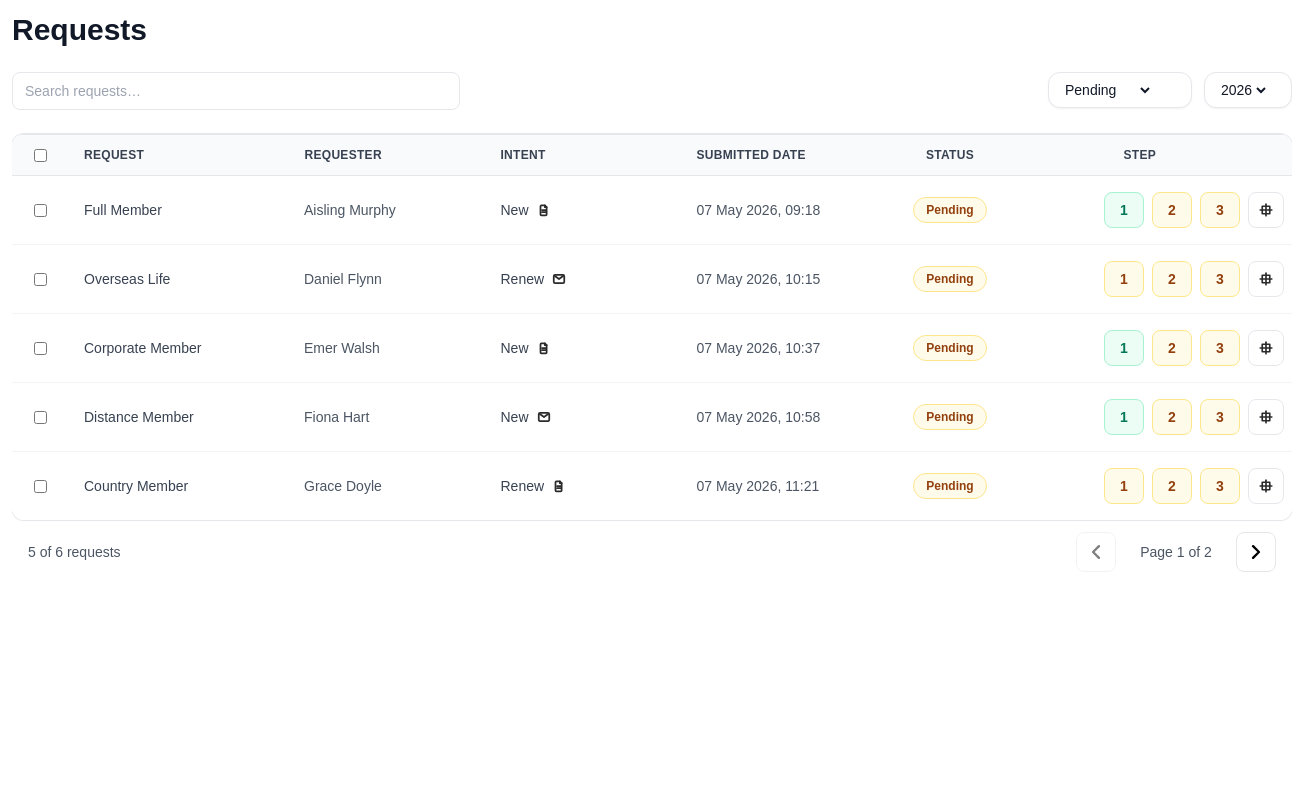
Test case: RequestsPage › filters › should change visible rows when moving between pagination pages and reset to page one on search
Expected: the text "Distance Member" is shown, [68,382,288,452]
Expected: the text "Pavilion Social" is not shown
Click the button named "Next page" at coordinates (1256, 552), box [1236,532,1276,572]
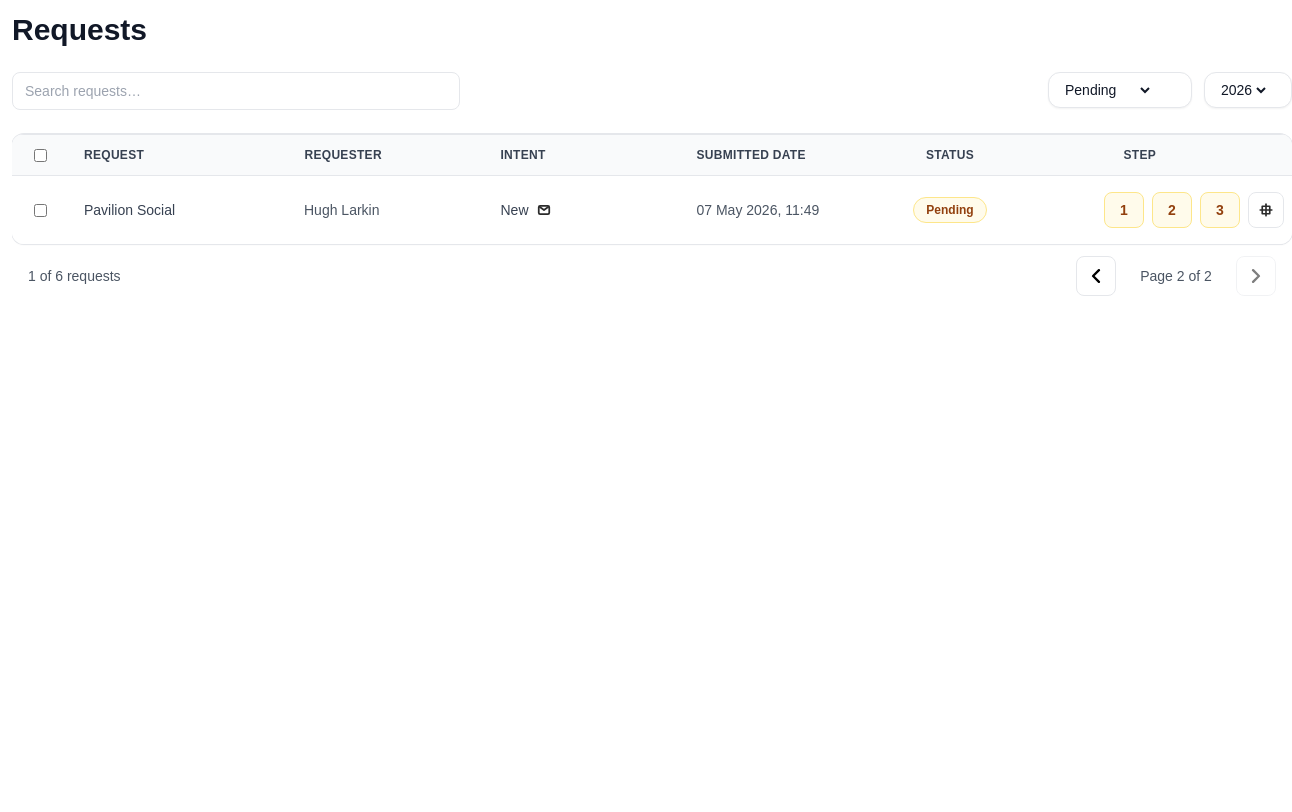
Expected: the text "Pavilion Social" is shown, [68,176,288,244]
Expected: the text "Distance Member" is gone
Expected: the text "1 of 6 requests" is shown, [28,266,121,286]
Type "REQ-1008" into the search field labelled "Search requests…" at coordinates (236, 91), box [12,72,460,110]
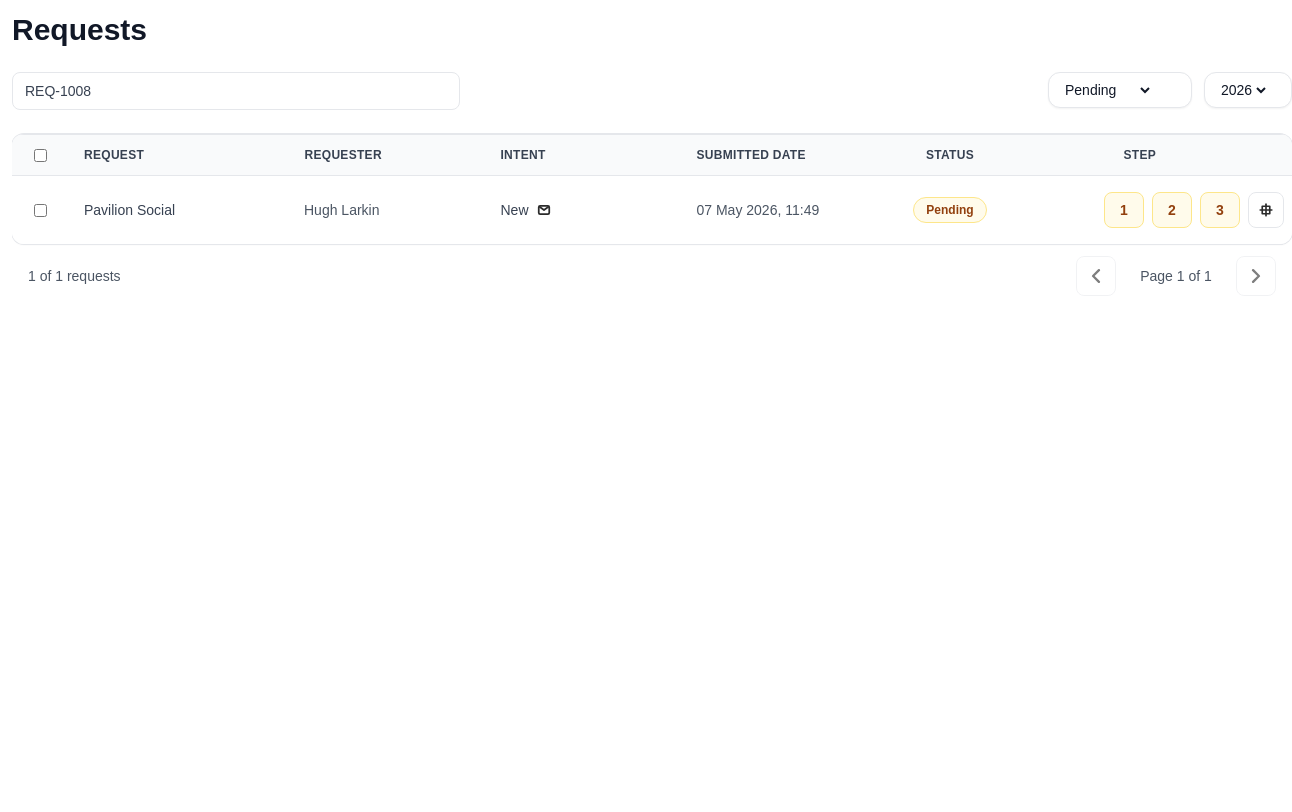
Expected: the text "Hugh Larkin" is shown, [304,202,380,218]
Expected: the text "1 of 1 requests" is shown, [28,266,121,286]
Expected: the text "Page 1 of 1" is shown, [1140,268,1212,284]
